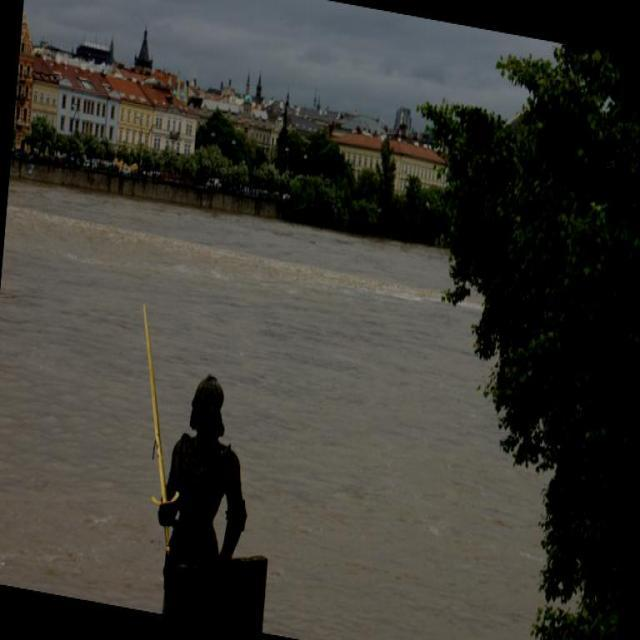flood: (0, 169, 559, 639)
